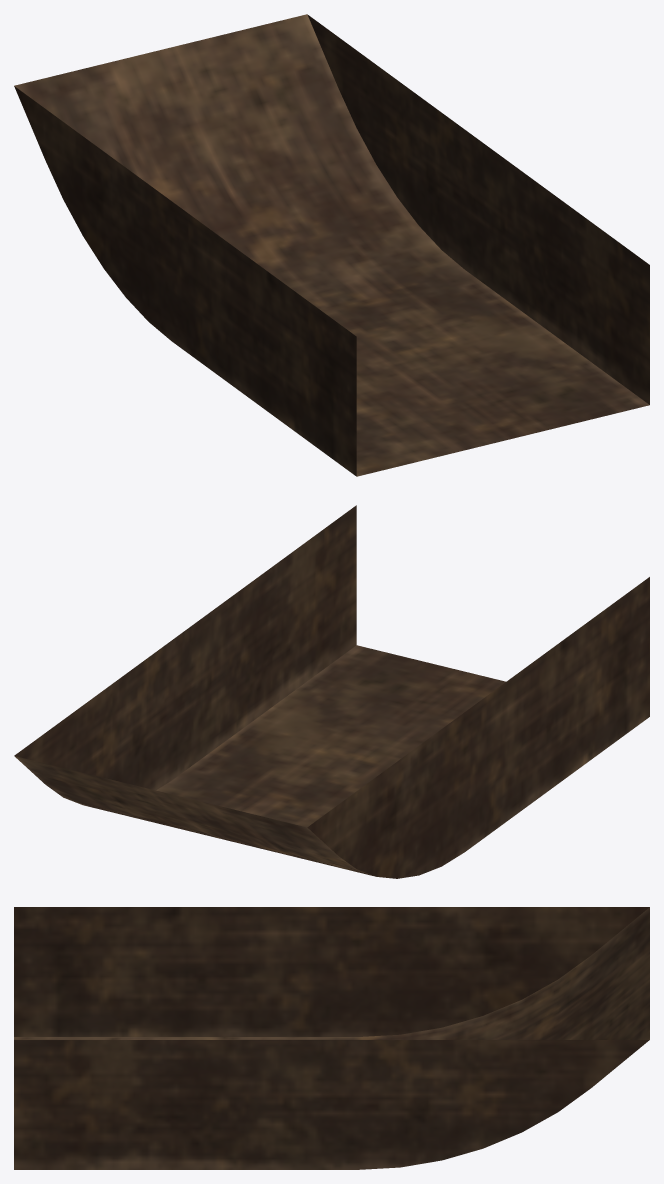
The model's file is SM_Fence_07.fbx.
The picture shows the model from 3 angles, top to bottom: view 1: azimuth 30°, elevation 25°; view 2: azimuth 150°, elevation 25°; view 3: azimuth 270°, elevation 25°; orthographic projection. The views are drawn at different scales.
Parts seen in each view (by area): view 1: SM_Fence_07_LOD0; view 2: SM_Fence_07_LOD0; view 3: SM_Fence_07_LOD0.
Boxes of the visible parts, x1,y1,x2,y2 form: SM_Fence_07_LOD0: (14, 14, 649, 476); SM_Fence_07_LOD0: (14, 505, 649, 878); SM_Fence_07_LOD0: (14, 907, 649, 1169).
Bounding box in the file's own units: 15.03 × 30.41 × 6.86.
